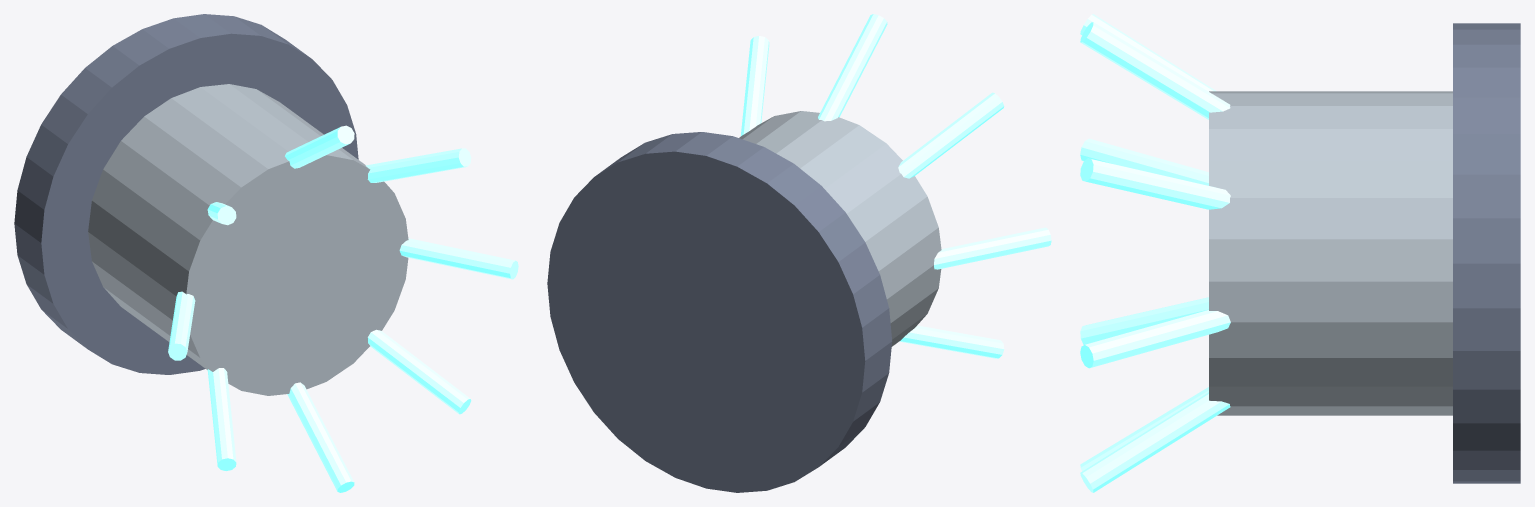
Rendered from 20_Celestial_Calendar_Obelisk.glb.
3 renders of one model, left to right at view 1: azimuth 30°, elevation 25°; view 2: azimuth 150°, elevation 25°; view 3: azimuth 270°, elevation 25°, orthographic. The views are drawn at different scales.
Visible parts, largest first — view 1: 20_Celestial_Calendar_Obelisk_01, 20_Celestial_Calendar_Obelisk_00, 20_Celestial_Calendar_Obelisk_09, 20_Celestial_Calendar_Obelisk_08, 20_Celestial_Calendar_Obelisk_02, 20_Celestial_Calendar_Obelisk_03, 20_Celestial_Calendar_Obelisk_07, 20_Celestial_Calendar_Obelisk_04, 20_Celestial_Calendar_Obelisk_06; view 2: 20_Celestial_Calendar_Obelisk_00, 20_Celestial_Calendar_Obelisk_01, 20_Celestial_Calendar_Obelisk_05, 20_Celestial_Calendar_Obelisk_06, 20_Celestial_Calendar_Obelisk_04, 20_Celestial_Calendar_Obelisk_07, 20_Celestial_Calendar_Obelisk_03; view 3: 20_Celestial_Calendar_Obelisk_01, 20_Celestial_Calendar_Obelisk_00, 20_Celestial_Calendar_Obelisk_04, 20_Celestial_Calendar_Obelisk_09, 20_Celestial_Calendar_Obelisk_02, 20_Celestial_Calendar_Obelisk_03, 20_Celestial_Calendar_Obelisk_06, 20_Celestial_Calendar_Obelisk_07, 20_Celestial_Calendar_Obelisk_05, 20_Celestial_Calendar_Obelisk_08.
Boxes of the visible parts, left/top/right/bottom form: 20_Celestial_Calendar_Obelisk_01: left=88, top=84, right=408, bottom=395; 20_Celestial_Calendar_Obelisk_00: left=14, top=14, right=358, bottom=374; 20_Celestial_Calendar_Obelisk_09: left=367, top=329, right=471, bottom=414; 20_Celestial_Calendar_Obelisk_08: left=287, top=382, right=354, bottom=492; 20_Celestial_Calendar_Obelisk_02: left=399, top=238, right=518, bottom=279; 20_Celestial_Calendar_Obelisk_03: left=365, top=148, right=471, bottom=182; 20_Celestial_Calendar_Obelisk_07: left=207, top=368, right=236, bottom=470; 20_Celestial_Calendar_Obelisk_04: left=285, top=125, right=354, bottom=168; 20_Celestial_Calendar_Obelisk_06: left=168, top=291, right=195, bottom=360; 20_Celestial_Calendar_Obelisk_00: left=547, top=132, right=892, bottom=492; 20_Celestial_Calendar_Obelisk_01: left=739, top=111, right=941, bottom=346; 20_Celestial_Calendar_Obelisk_05: left=898, top=92, right=1004, bottom=178; 20_Celestial_Calendar_Obelisk_06: left=934, top=227, right=1051, bottom=269; 20_Celestial_Calendar_Obelisk_04: left=818, top=14, right=887, bottom=121; 20_Celestial_Calendar_Obelisk_07: left=899, top=325, right=1004, bottom=358; 20_Celestial_Calendar_Obelisk_03: left=740, top=36, right=769, bottom=136; 20_Celestial_Calendar_Obelisk_01: left=1209, top=91, right=1452, bottom=415; 20_Celestial_Calendar_Obelisk_00: left=1453, top=23, right=1520, bottom=483; 20_Celestial_Calendar_Obelisk_04: left=1080, top=22, right=1230, bottom=119; 20_Celestial_Calendar_Obelisk_09: left=1080, top=392, right=1230, bottom=492; 20_Celestial_Calendar_Obelisk_02: left=1080, top=310, right=1230, bottom=368; 20_Celestial_Calendar_Obelisk_03: left=1080, top=158, right=1230, bottom=209; 20_Celestial_Calendar_Obelisk_06: left=1080, top=138, right=1208, bottom=185; 20_Celestial_Calendar_Obelisk_07: left=1080, top=297, right=1208, bottom=344; 20_Celestial_Calendar_Obelisk_05: left=1080, top=14, right=1216, bottom=91; 20_Celestial_Calendar_Obelisk_08: left=1080, top=387, right=1208, bottom=471.
Bounding box in the file's own units: 3.75 × 3.74 × 3.25.
